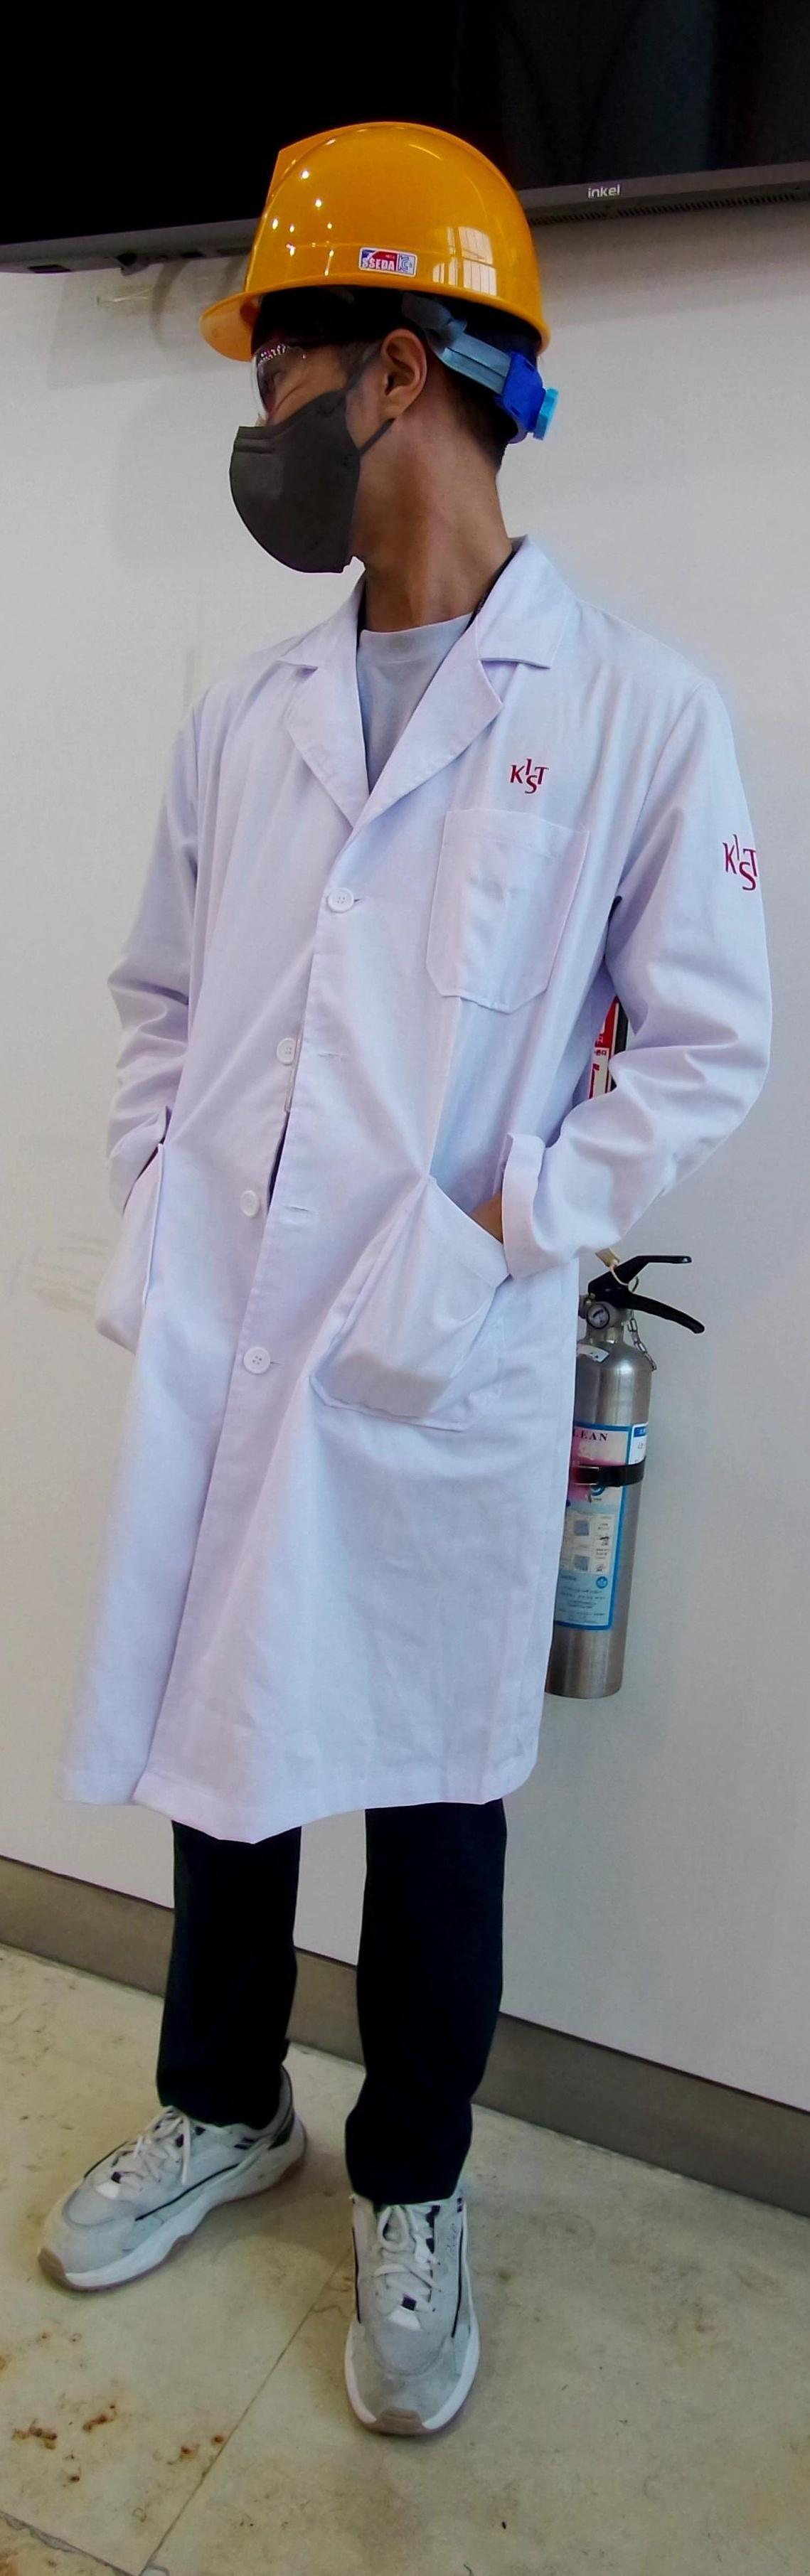lab_coat: (66, 655, 774, 1804)
